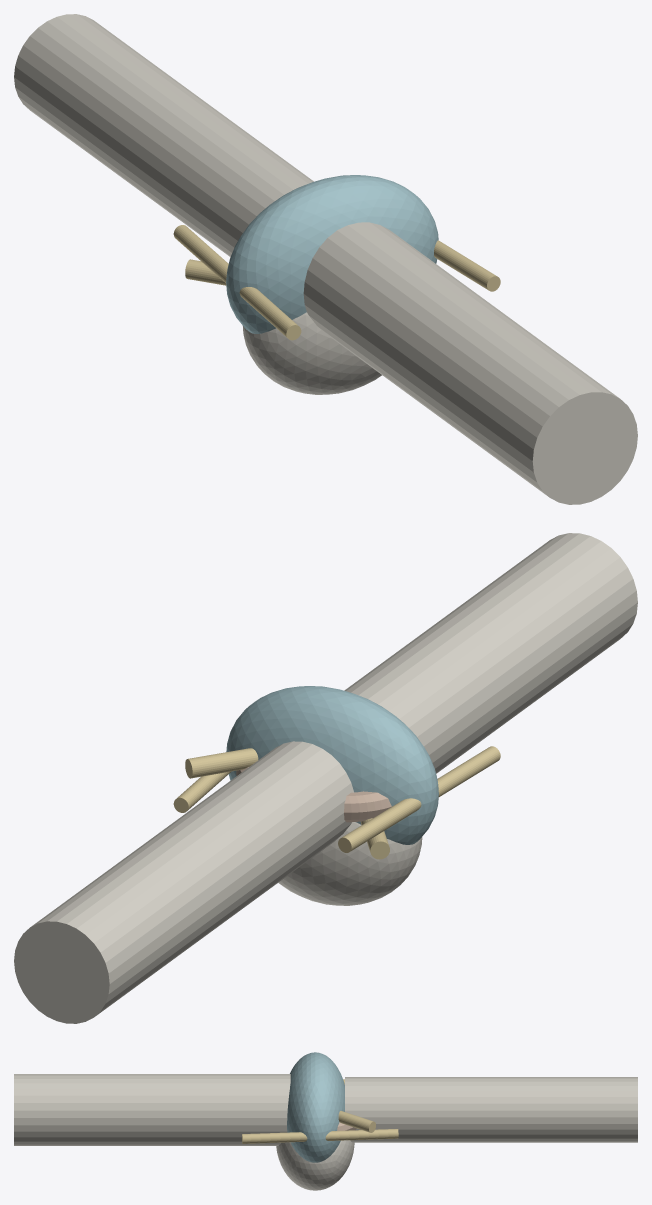
The model's file is knee-high.glb.
The picture shows the model from 3 angles, top to bottom: view 1: azimuth 30°, elevation 25°; view 2: azimuth 150°, elevation 25°; view 3: azimuth 270°, elevation 25°; orthographic projection. The views are drawn at different scales.
Visible parts, largest first — view 1: femur_distal, tibia, knee_cartilage_proxy, patella, medial_collateral_ligament_proxy, lateral_collateral_ligament_proxy; view 2: tibia, femur_distal, knee_cartilage_proxy, patella, medial_collateral_ligament_proxy, pcl_proxy, meniscus_proxy, lateral_collateral_ligament_proxy; view 3: femur_distal, tibia, knee_cartilage_proxy, patella, lateral_collateral_ligament_proxy, pcl_proxy.
Part boxes in pixels (x1,y1,x2,y2): femur_distal: (303, 222, 637, 504); tibia: (14, 14, 313, 256); knee_cartilage_proxy: (226, 175, 438, 333); patella: (243, 312, 381, 394); medial_collateral_ligament_proxy: (173, 225, 301, 340); lateral_collateral_ligament_proxy: (434, 240, 500, 291); tibia: (14, 741, 353, 1023); femur_distal: (344, 533, 637, 773); knee_cartilage_proxy: (226, 686, 438, 844); patella: (278, 822, 422, 905); medial_collateral_ligament_proxy: (338, 746, 500, 852); pcl_proxy: (185, 748, 258, 778); meniscus_proxy: (236, 766, 391, 822); lateral_collateral_ligament_proxy: (173, 771, 230, 812); femur_distal: (14, 1074, 290, 1145); tibia: (345, 1077, 637, 1142); knee_cartilage_proxy: (287, 1052, 344, 1162); patella: (276, 1140, 354, 1190); lateral_collateral_ligament_proxy: (242, 1129, 398, 1143); pcl_proxy: (338, 1111, 375, 1132).
Bounding box in the file's own units: 0.8957 × 0.83 × 3.79.
